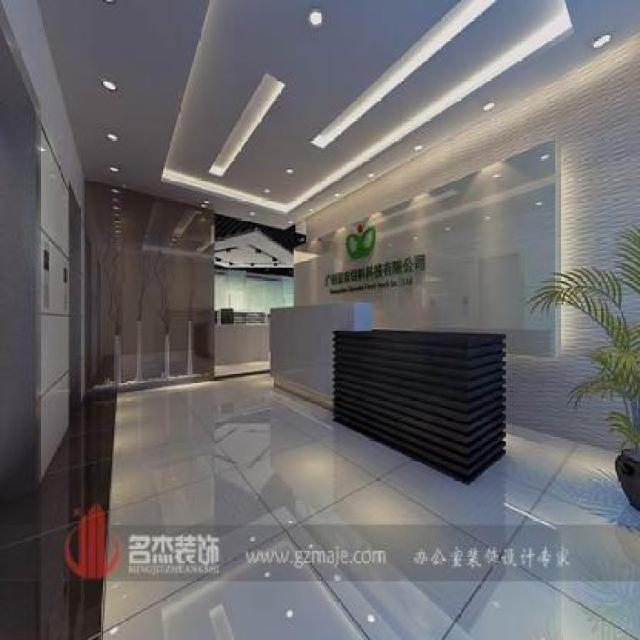frontdesk: (257, 296, 516, 492)
